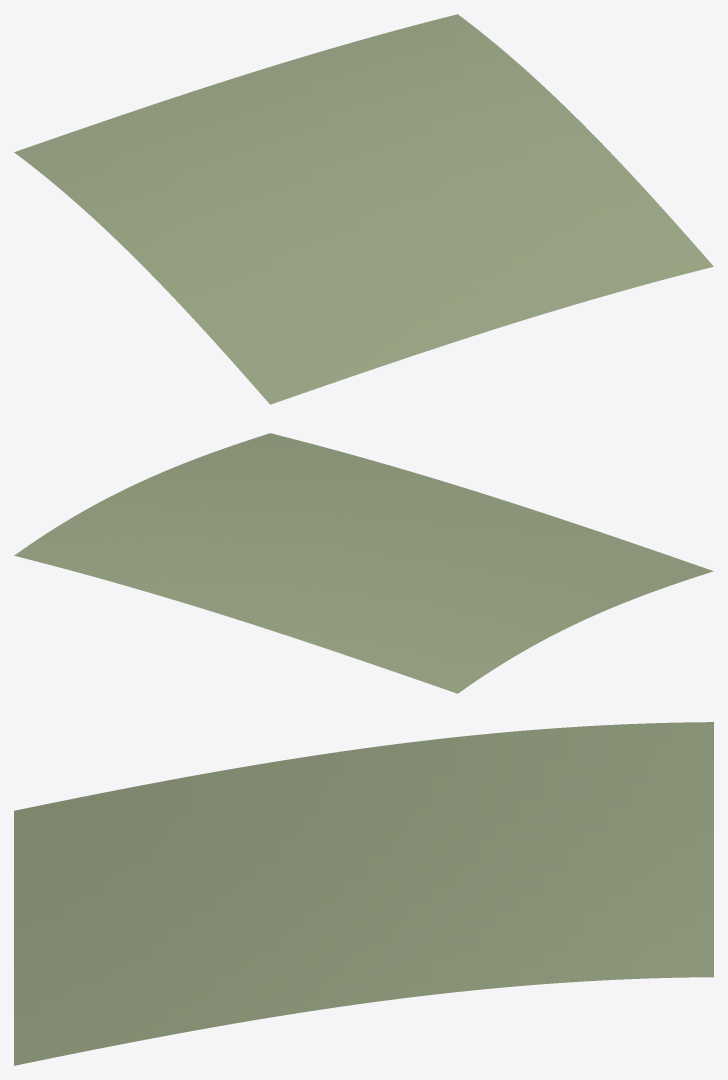
Rendered from valley-10-1.glb.
3 views of the same model, one above another, from view 1: azimuth 30°, elevation 25°; view 2: azimuth 150°, elevation 25°; view 3: azimuth 270°, elevation 25° (orthographic). The views are drawn at different scales.
Visible parts, largest first — view 1: valley-10-1; view 2: valley-10-1; view 3: valley-10-1.
Part boxes in pixels (box(x1,y1,x2,y2)): valley-10-1: box(14, 14, 713, 404); valley-10-1: box(14, 433, 713, 693); valley-10-1: box(14, 722, 713, 1065).
Size of the model in its own units: 256 by 52.24 by 256.
